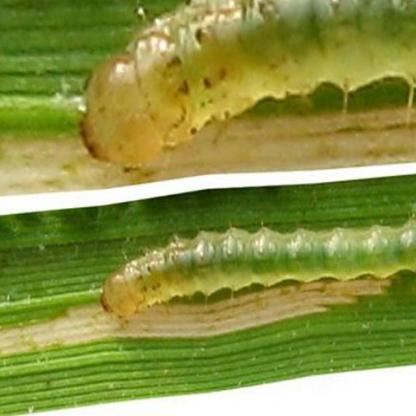leaf-folder: (83, 5, 416, 162), (92, 211, 416, 335)
